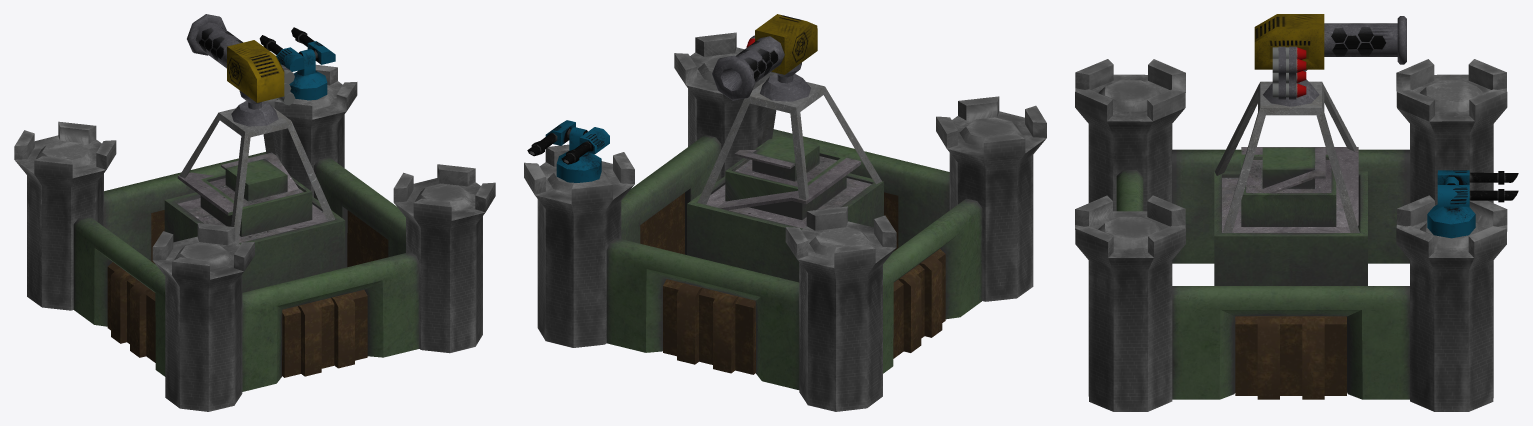
Rendered from MainTower.fbx.
The picture shows the model from 3 angles, left to right: view 1: azimuth 30°, elevation 25°; view 2: azimuth 150°, elevation 25°; view 3: azimuth 270°, elevation 25°; orthographic projection. The views are drawn at different scales.
Visible parts, largest first — view 1: base, BGUN_HEAD, BGUN_BODY, MGUN_HEAD, MGUN_BODY; view 2: base, BGUN_BODY, BGUN_HEAD, MGUN_HEAD, MGUN_BODY; view 3: base, BGUN_HEAD, BGUN_BODY, MGUN_HEAD, MGUN_BODY.
Part boxes in pixels (bbox=[...]): base: bbox=[14, 64, 495, 411]; BGUN_HEAD: bbox=[187, 14, 294, 105]; BGUN_BODY: bbox=[179, 90, 335, 242]; MGUN_HEAD: bbox=[259, 27, 335, 71]; MGUN_BODY: bbox=[289, 49, 327, 100]; base: bbox=[524, 32, 1046, 411]; BGUN_BODY: bbox=[697, 62, 881, 204]; BGUN_HEAD: bbox=[712, 14, 817, 100]; MGUN_HEAD: bbox=[527, 120, 609, 164]; MGUN_BODY: bbox=[556, 127, 601, 182]; base: bbox=[1075, 59, 1507, 411]; BGUN_HEAD: bbox=[1254, 14, 1406, 99]; BGUN_BODY: bbox=[1215, 69, 1359, 232]; MGUN_HEAD: bbox=[1437, 170, 1518, 206]; MGUN_BODY: bbox=[1427, 176, 1475, 238].
Bounding box in the file's own units: 746 × 764 × 619.
